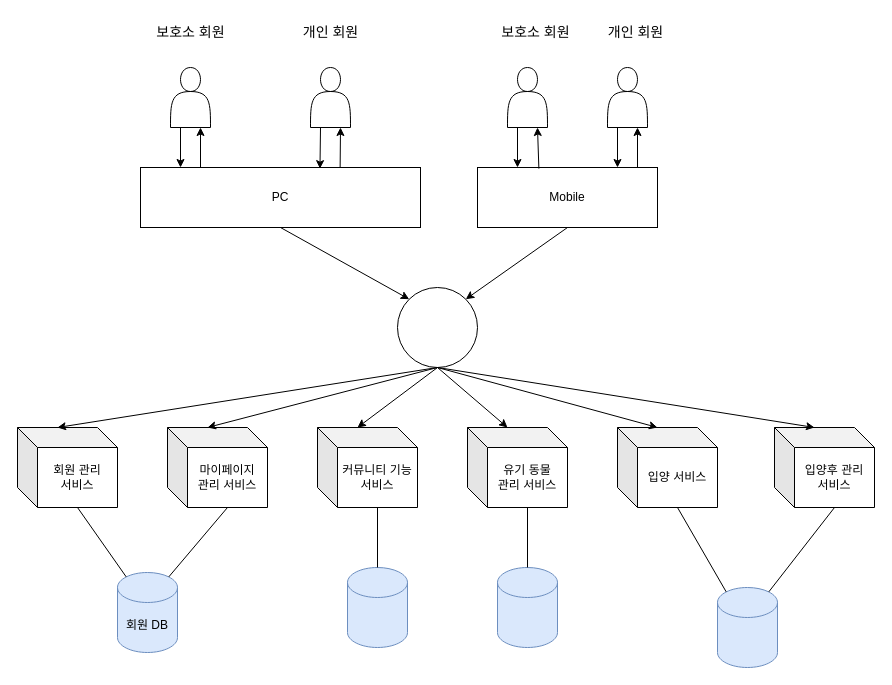
The diagram is 892 pixels wide and 685 high, and some of its shapes have lost their labels. The shapes that lost their labels are listed below. From the top down, each one's centre as x and y in pixels, then its label:
At point 437,327: "API Gateway".
At point 377,607: "커뮤니티 DB".
At point 527,607: "유기 동물 DB".
At point 747,627: "입양 동물 DB".
